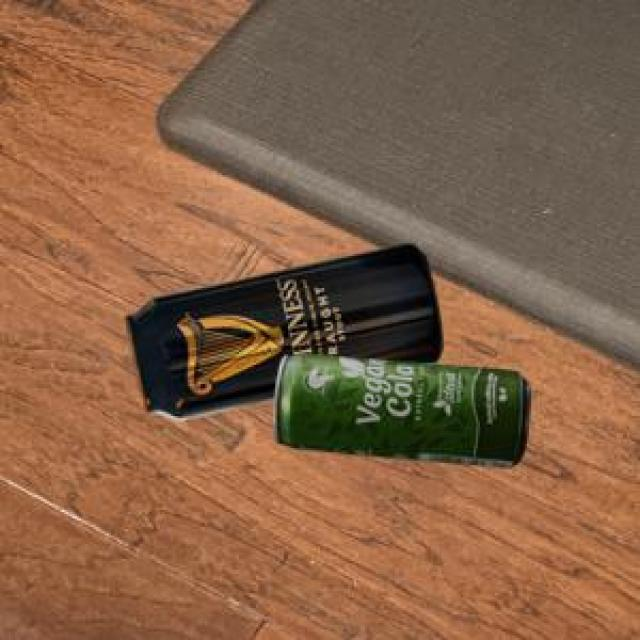Can: (124, 242, 438, 417), (272, 351, 528, 464)
